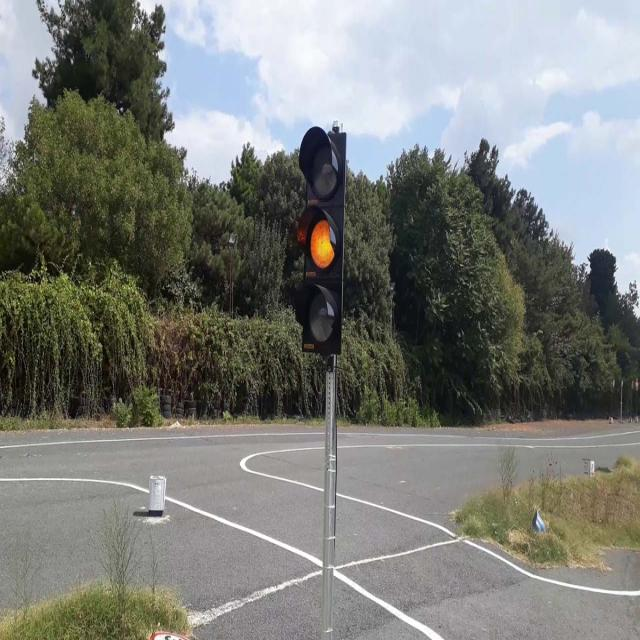sari: (300, 129, 342, 350)
